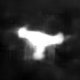plane: (12, 23, 70, 63)
